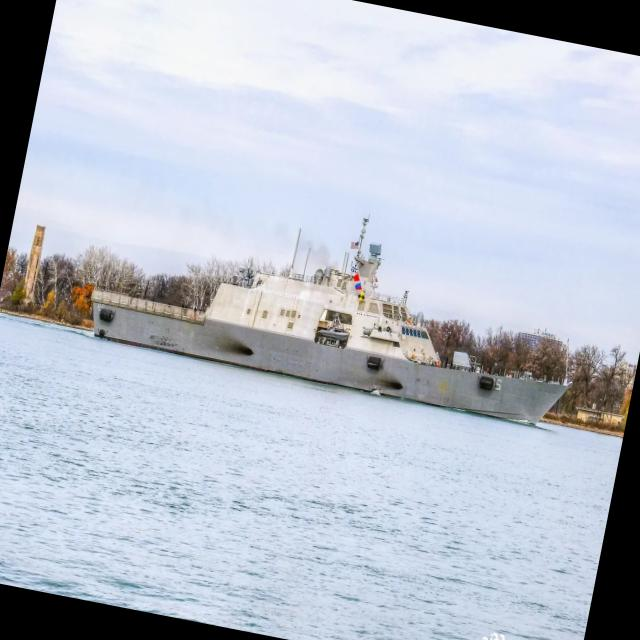Military: (93, 225, 566, 422)
